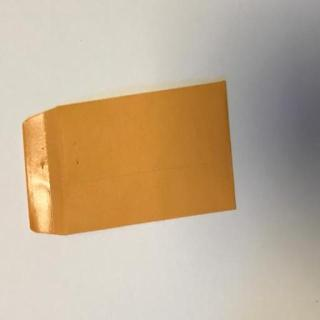Anorganik: (18, 70, 245, 245)
